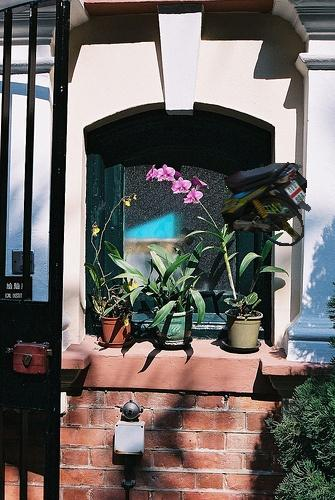tampered: (222, 163, 311, 246)
